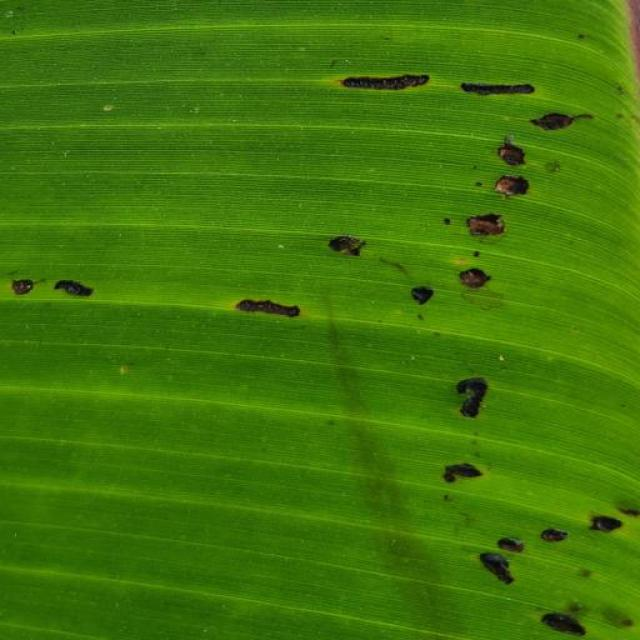Black_rot: (313, 38, 589, 342), (432, 357, 639, 640), (0, 259, 112, 334), (226, 278, 318, 331)
